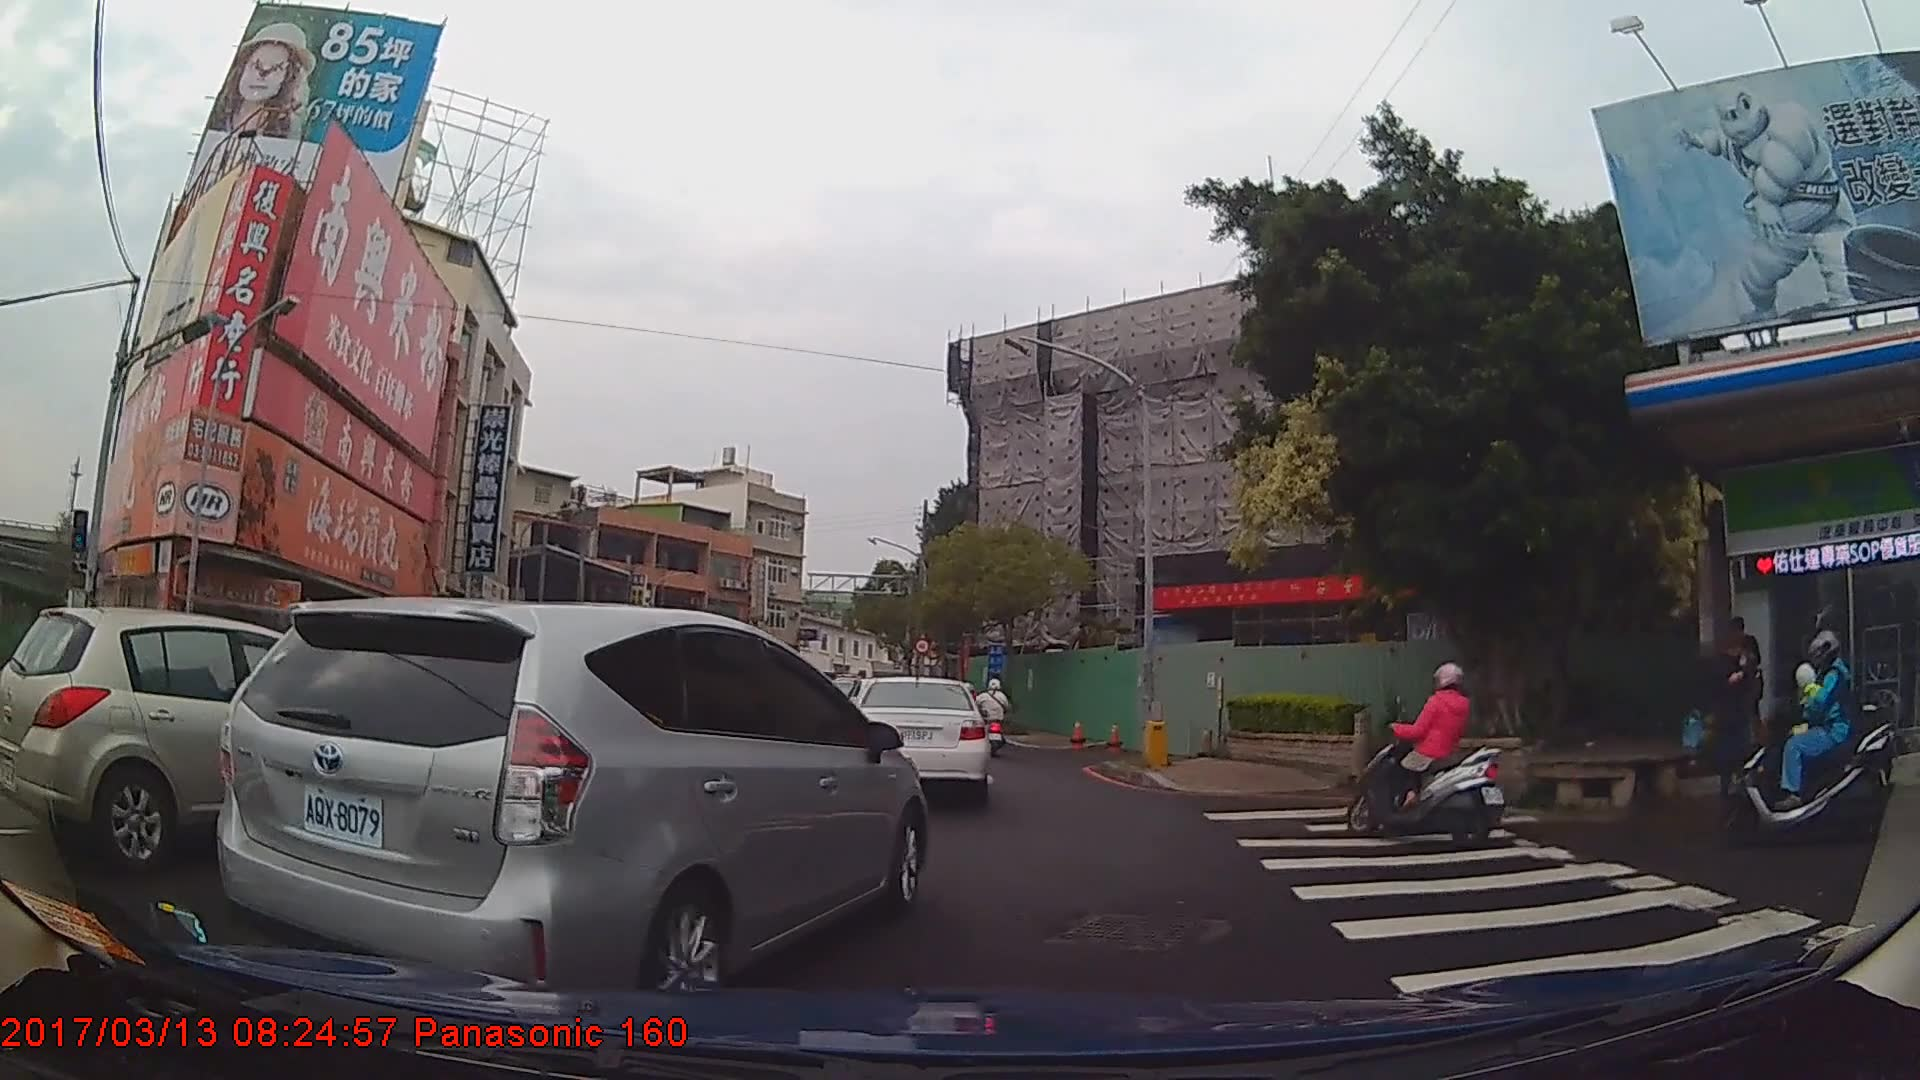pedestrian: (1706, 634, 1765, 817), (1712, 614, 1765, 753)
rider: (1714, 630, 1895, 845), (1342, 666, 1505, 845), (978, 681, 1012, 759)
vehicle: (214, 595, 932, 1006), (1, 603, 402, 868), (848, 676, 992, 808)
